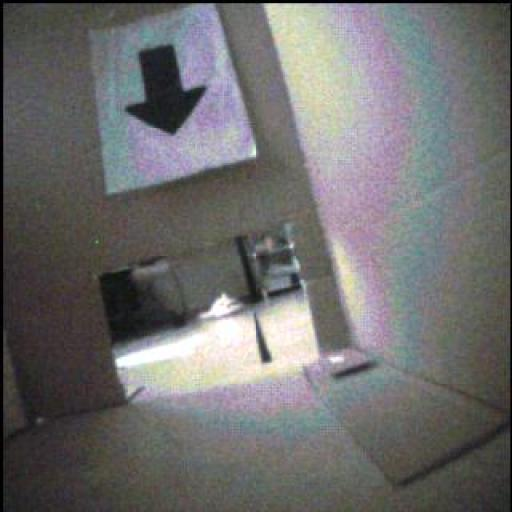arrow: (128, 46, 208, 135)
